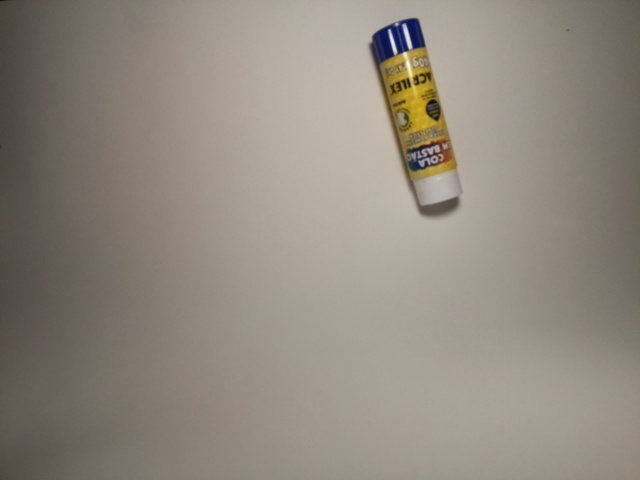Cola: (363, 18, 469, 211)
